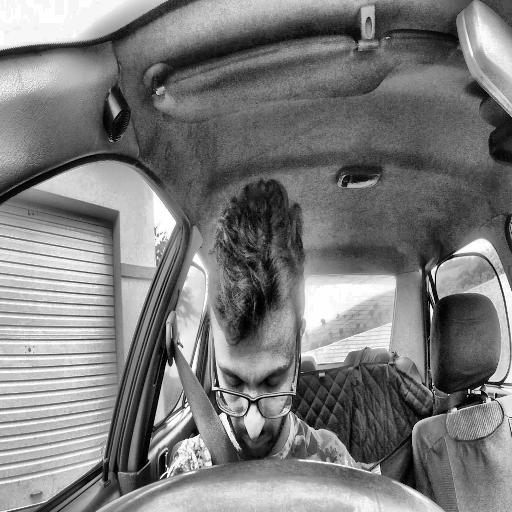drowsy: (207, 175, 306, 465)
